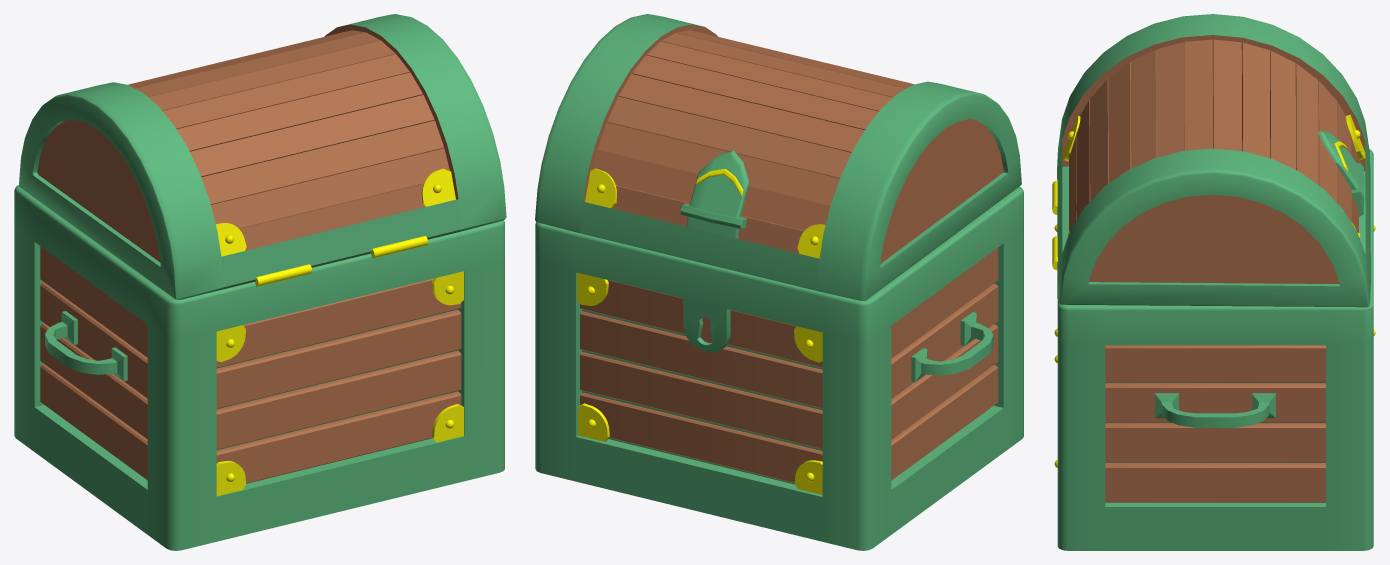
The model's file is Chest_Green.fbx.
3 views of the same model, side by side, from view 1: azimuth 30°, elevation 25°; view 2: azimuth 150°, elevation 25°; view 3: azimuth 270°, elevation 25° (orthographic). The views are drawn at different scales.
Parts seen in each view (by area): view 1: Chest_Bottom, Chest_Up; view 2: Chest_Bottom, Chest_Up; view 3: Chest_Up, Chest_Bottom.
Part boxes in pixels (bbox=[...]): Chest_Bottom: bbox=[14, 185, 504, 550]; Chest_Up: bbox=[19, 14, 506, 299]; Chest_Bottom: bbox=[535, 186, 1023, 550]; Chest_Up: bbox=[535, 14, 1021, 300]; Chest_Up: bbox=[1057, 14, 1370, 307]; Chest_Bottom: bbox=[1052, 149, 1375, 550].
Size of the model in its own units: 77.36 by 71.62 by 55.23.
